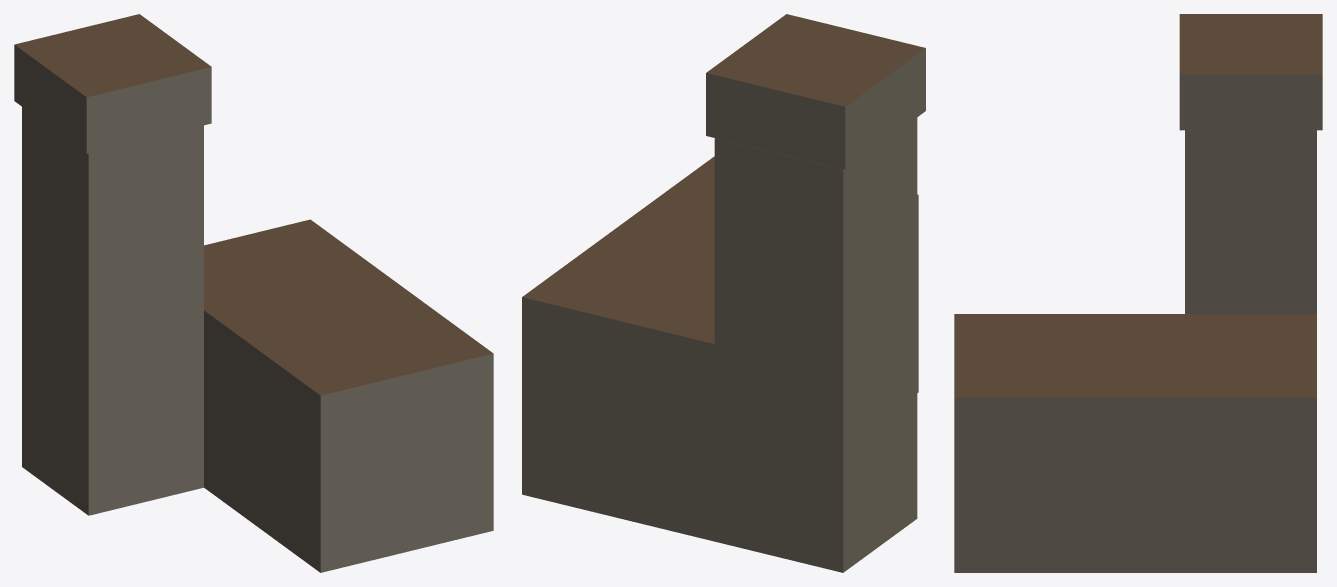
Rendered from fort-chapel.far-facades-v2.lod2.glb.
The picture shows the model from 3 angles, left to right: view 1: azimuth 30°, elevation 25°; view 2: azimuth 150°, elevation 25°; view 3: azimuth 270°, elevation 25°; orthographic projection. The views are drawn at different scales.
Visible parts, largest first — view 1: fort-chapel; view 2: fort-chapel; view 3: fort-chapel.
Boxes of the visible parts, x1,y1,x2,y2 form: fort-chapel: (14,14,493,572); fort-chapel: (522,14,925,572); fort-chapel: (954,14,1322,572).
Size of the model in its own units: 20.34 by 27.95 by 22.34.
